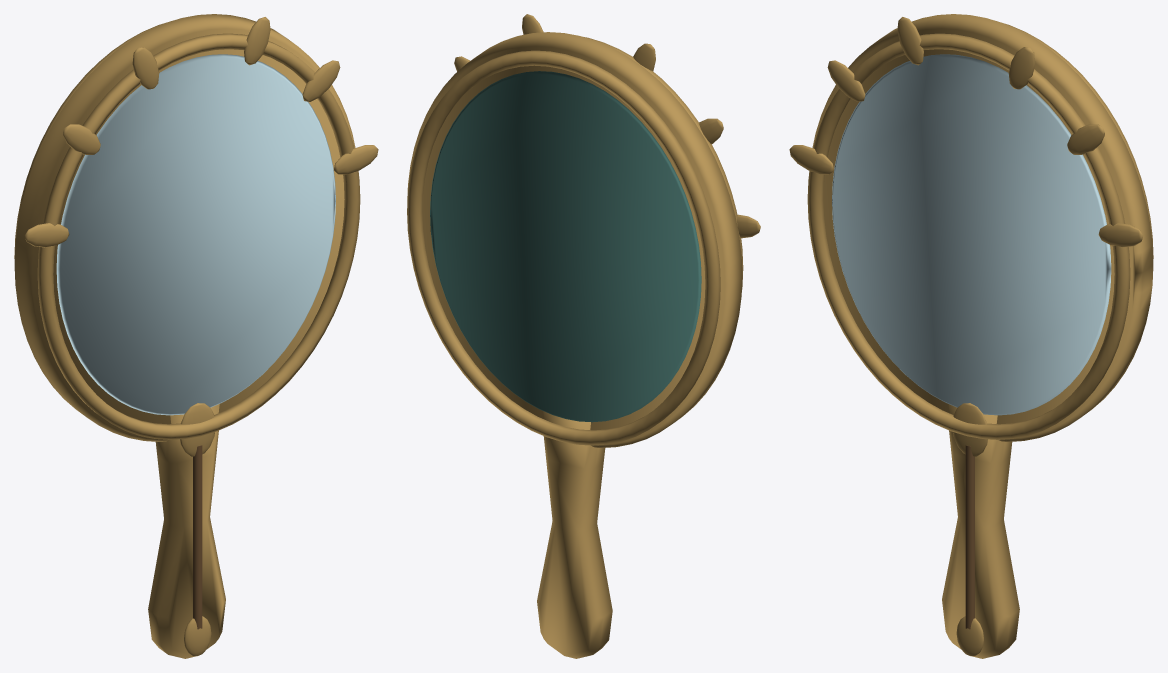
Rendered from P005_hand_mirror_rebuilt.glb.
3 views of the same model, side by side, from view 1: azimuth 30°, elevation 25°; view 2: azimuth 150°, elevation 25°; view 3: azimuth 330°, elevation 25° (orthographic). The views are drawn at different scales.
Visible parts, largest first — view 1: Hand_mirror_silver_face, Hand_mirror_warm_brass, Hand_mirror_recessed_bronze; view 2: Hand_mirror_enamel_reverse, Hand_mirror_warm_brass; view 3: Hand_mirror_silver_face, Hand_mirror_warm_brass, Hand_mirror_recessed_bronze.
Part boxes in pixels (bbox=[...]): Hand_mirror_silver_face: bbox=[56, 54, 335, 415]; Hand_mirror_warm_brass: bbox=[14, 14, 378, 658]; Hand_mirror_recessed_bronze: bbox=[193, 445, 202, 629]; Hand_mirror_enamel_reverse: bbox=[430, 71, 701, 422]; Hand_mirror_warm_brass: bbox=[407, 14, 760, 658]; Hand_mirror_silver_face: bbox=[832, 54, 1111, 415]; Hand_mirror_warm_brass: bbox=[789, 14, 1153, 658]; Hand_mirror_recessed_bronze: bbox=[965, 445, 974, 629].
Size of the model in its own units: 0.1545 by 0.2638 by 0.0245.
